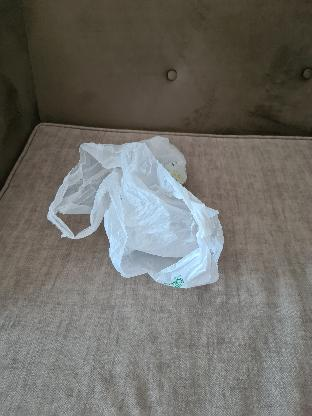Plastic Bag: (47, 132, 225, 288)
